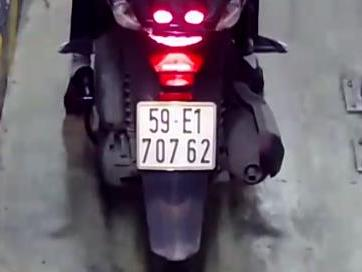num_plate: (136, 100, 216, 171)
